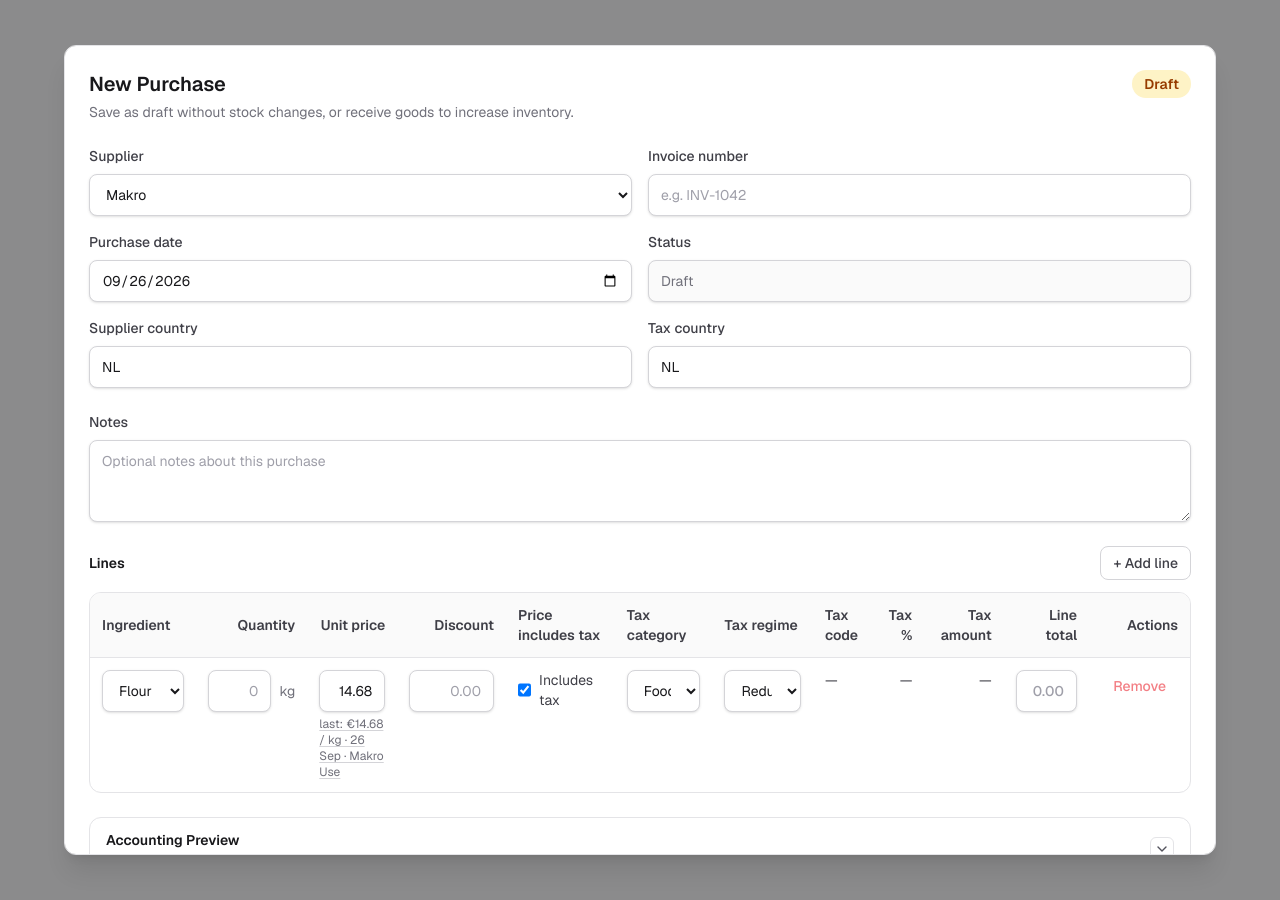
Test: PurchaseDocumentModal last price › replaces a helper price with the next ingredient's history
Expected: the field named "Unit price" holds "14.68", left=319, top=670, right=385, bottom=712
Select "Milk (L)" in the 2nd dropdown: (143, 691) left=102, top=670, right=184, bottom=712
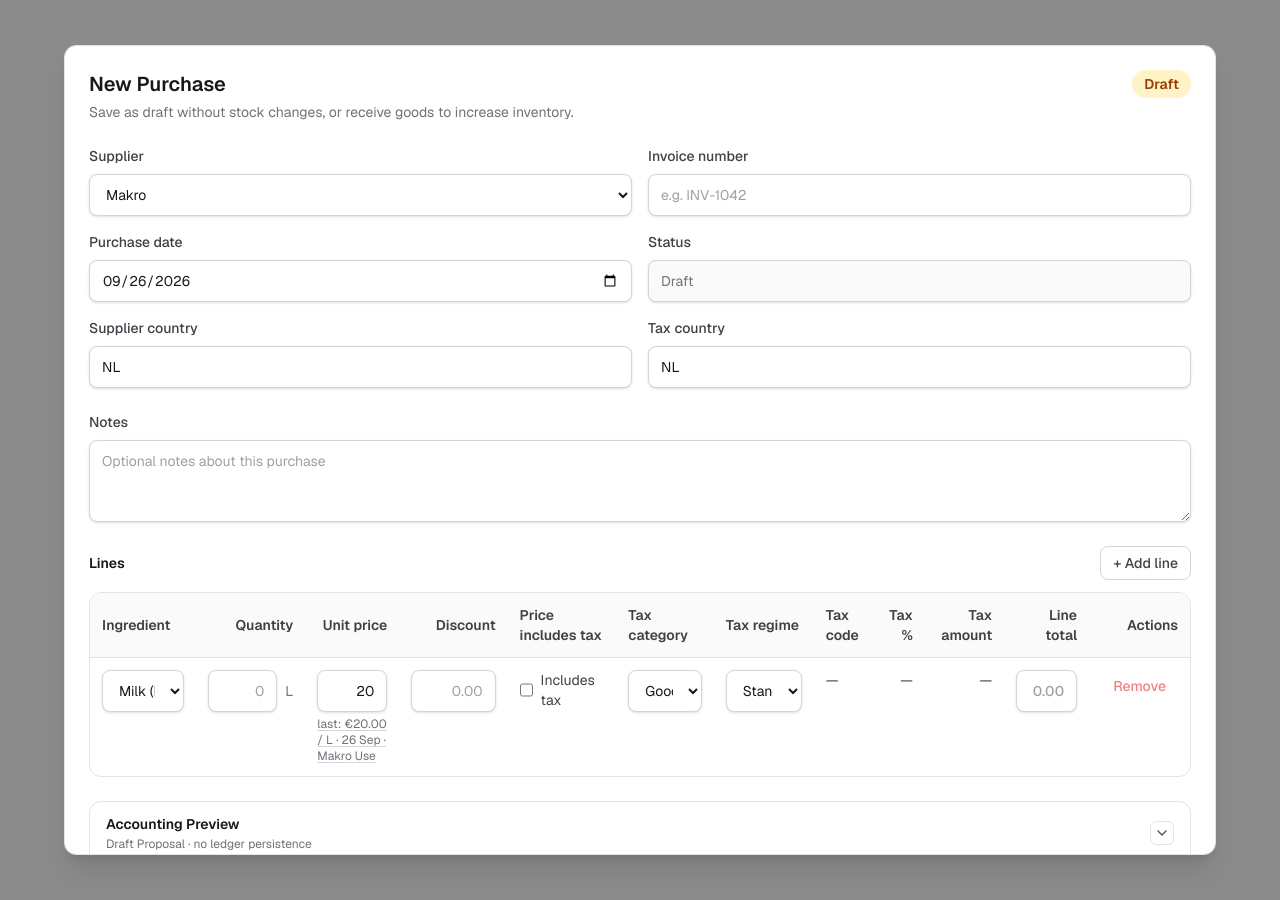
Result: the field named "Unit price" holds "20" at left=317, top=670, right=387, bottom=712
Result: the checkbox labelled "Includes tax" is not checked at left=520, top=682, right=533, bottom=698
Result: the 3rd dropdown shows "Goods" at left=628, top=670, right=702, bottom=712
